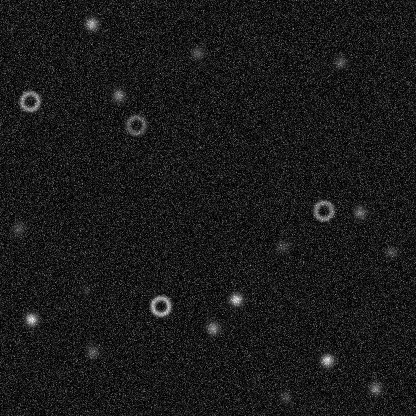Ring: (17, 89, 41, 113), (148, 293, 172, 317), (123, 112, 147, 136), (311, 198, 335, 222)
Spot: (332, 54, 348, 70), (383, 243, 399, 259), (351, 204, 367, 220), (110, 87, 126, 103), (23, 311, 39, 327), (78, 280, 94, 296), (189, 44, 205, 60), (274, 238, 290, 254), (319, 352, 335, 368), (227, 291, 243, 307), (277, 388, 293, 404), (367, 380, 383, 396), (83, 15, 99, 31), (204, 320, 220, 336), (10, 220, 26, 236), (84, 344, 100, 360)
